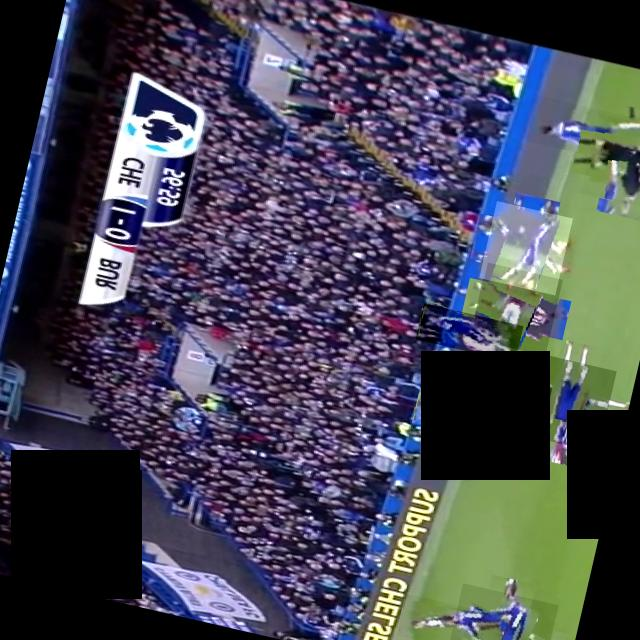referee: (580, 112, 640, 209)
soccer-player: (516, 351, 616, 451), (469, 261, 564, 355), (478, 200, 572, 294), (526, 94, 640, 168), (518, 410, 623, 476), (441, 581, 558, 640), (416, 302, 524, 361), (412, 388, 518, 444), (396, 592, 505, 640), (467, 368, 552, 422)
